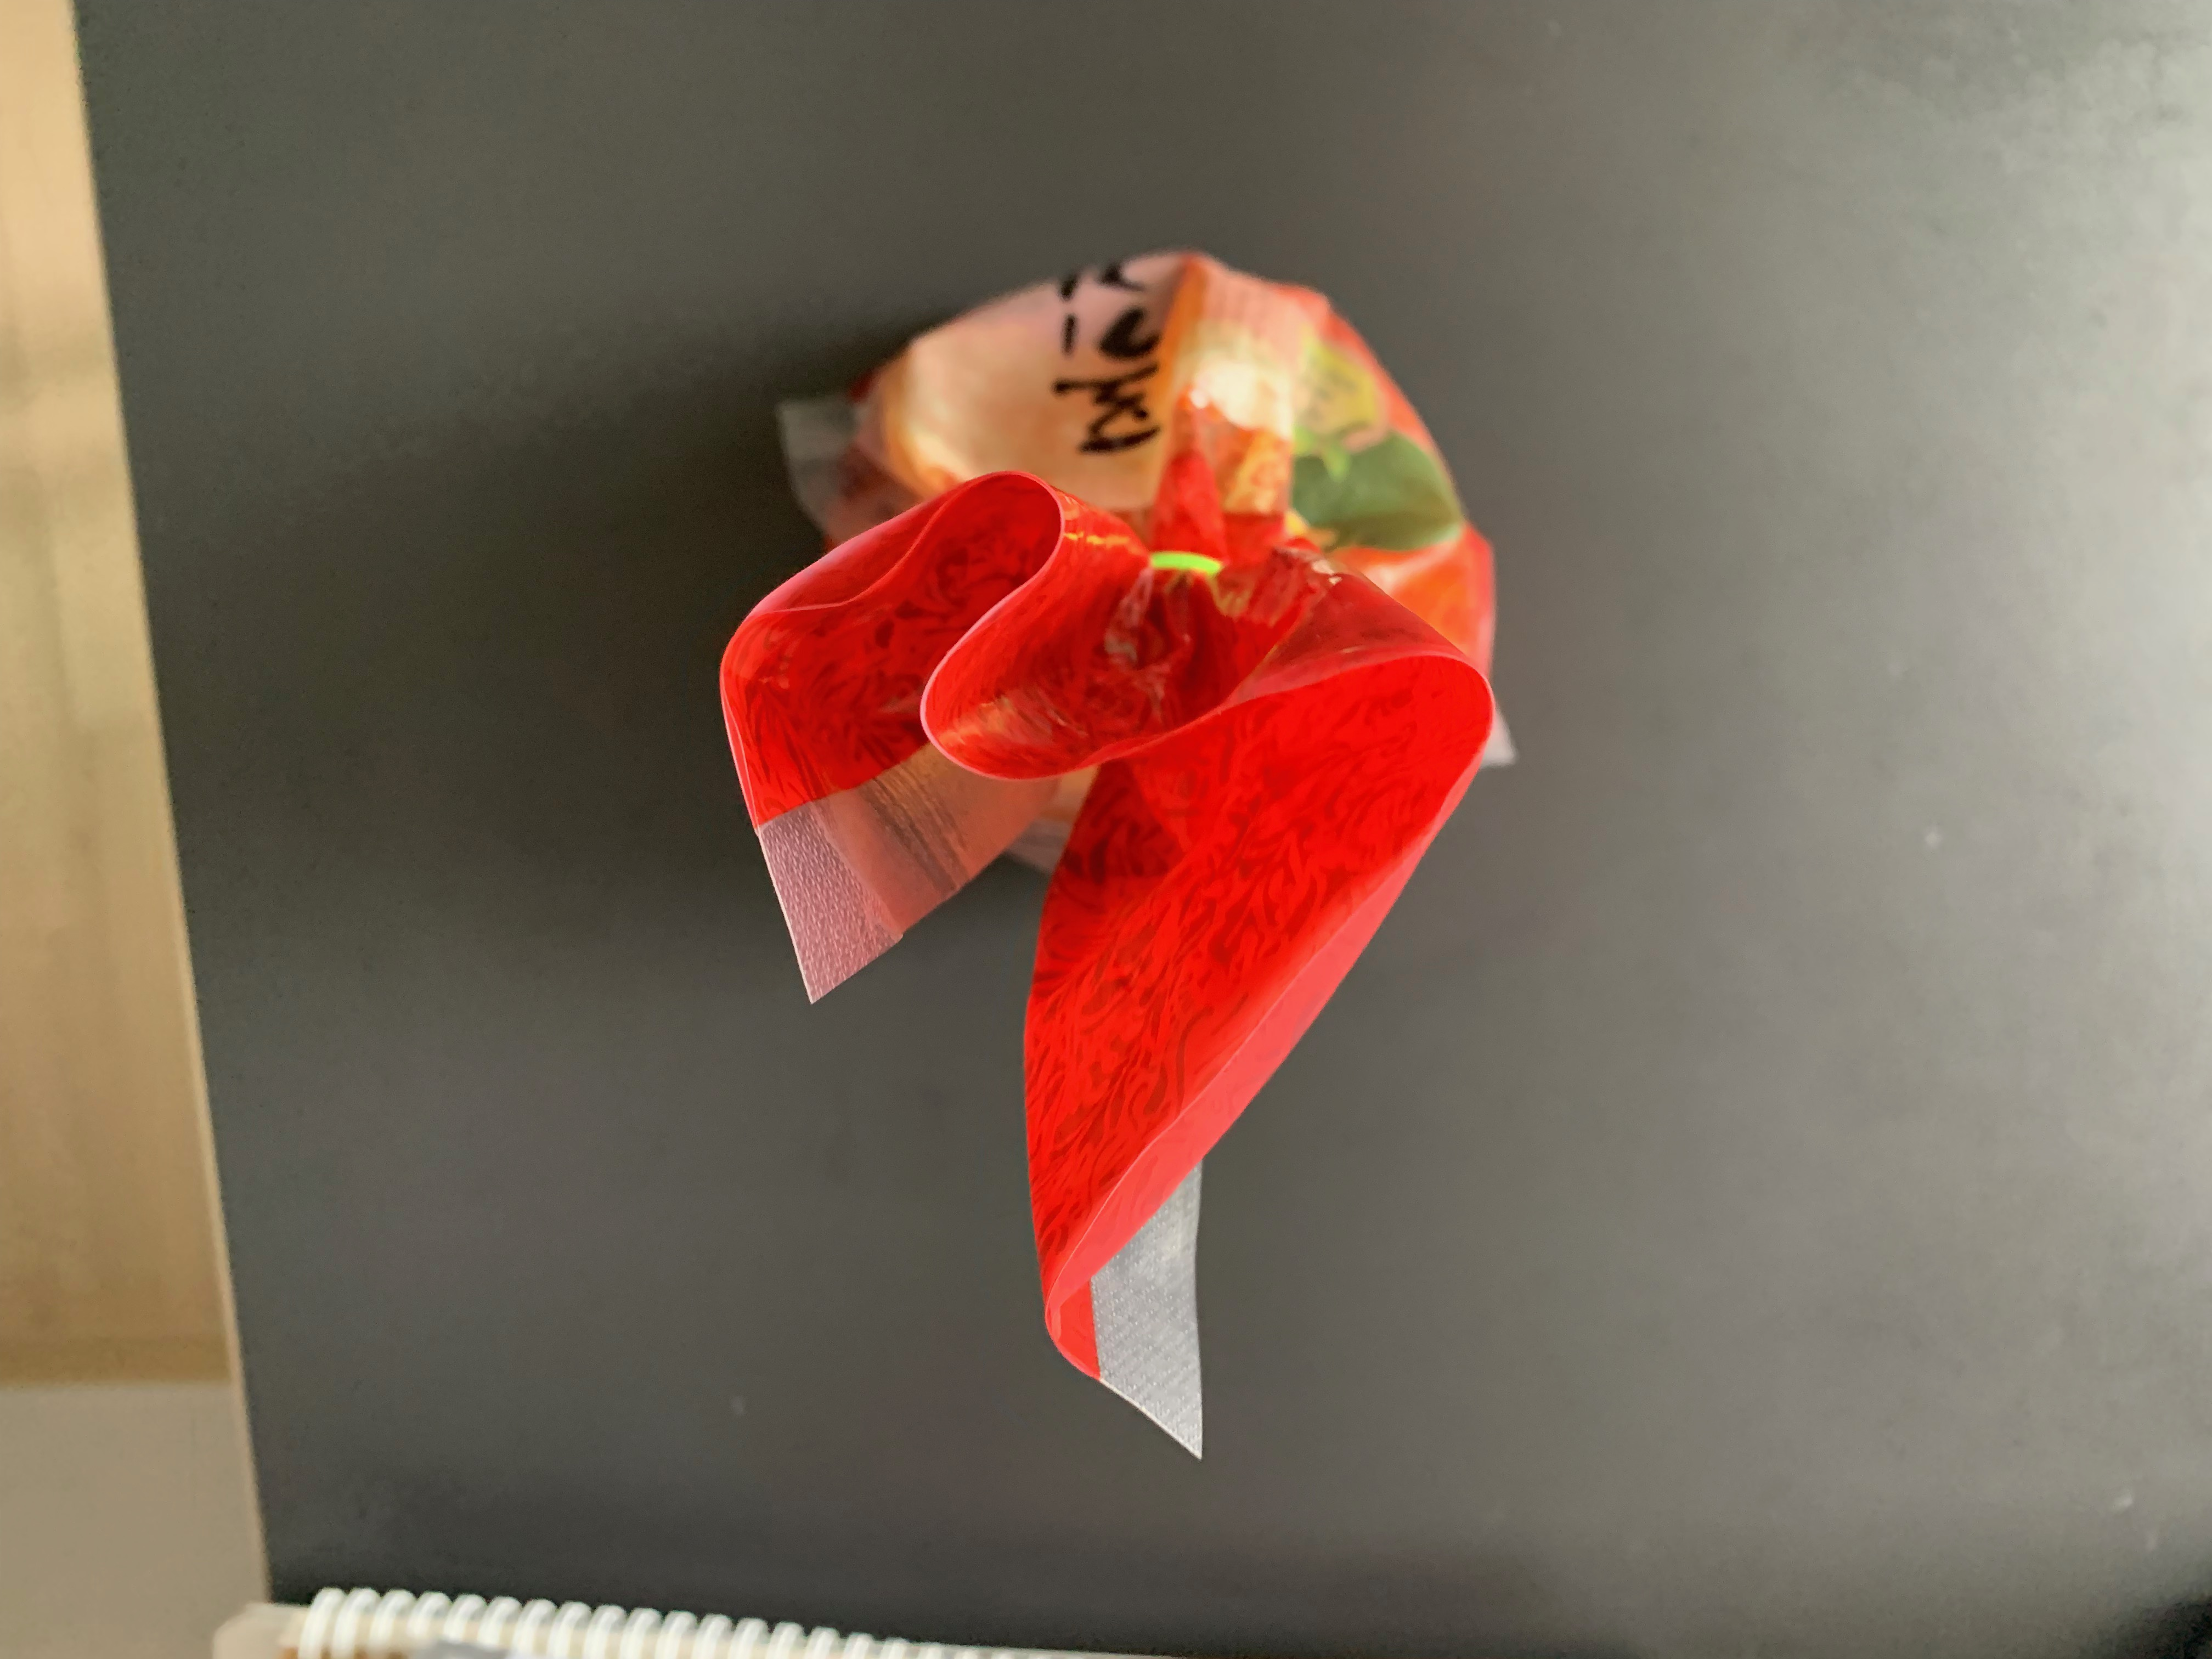kimchi: (716, 247, 1500, 1298)
